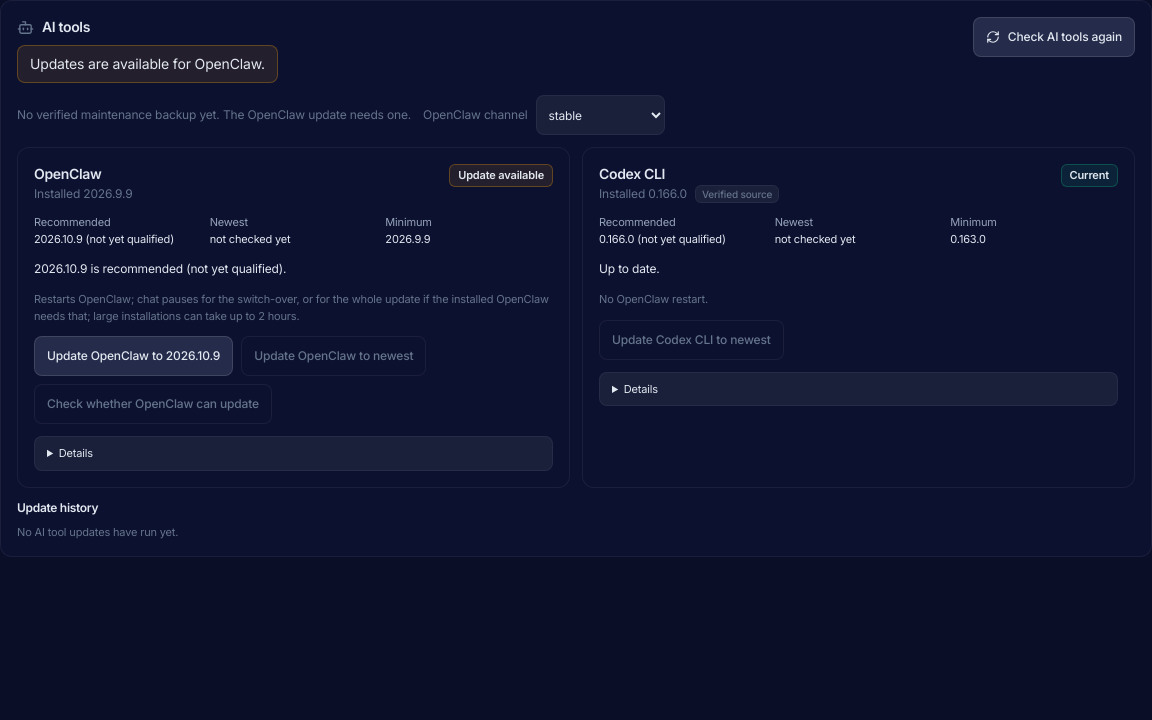
it: OpenClaw update consent review › without a verified backup the review says to create one first
Click the button "Update OpenClaw to 2026.10.9" at (134, 356), box [34,336,233,376]
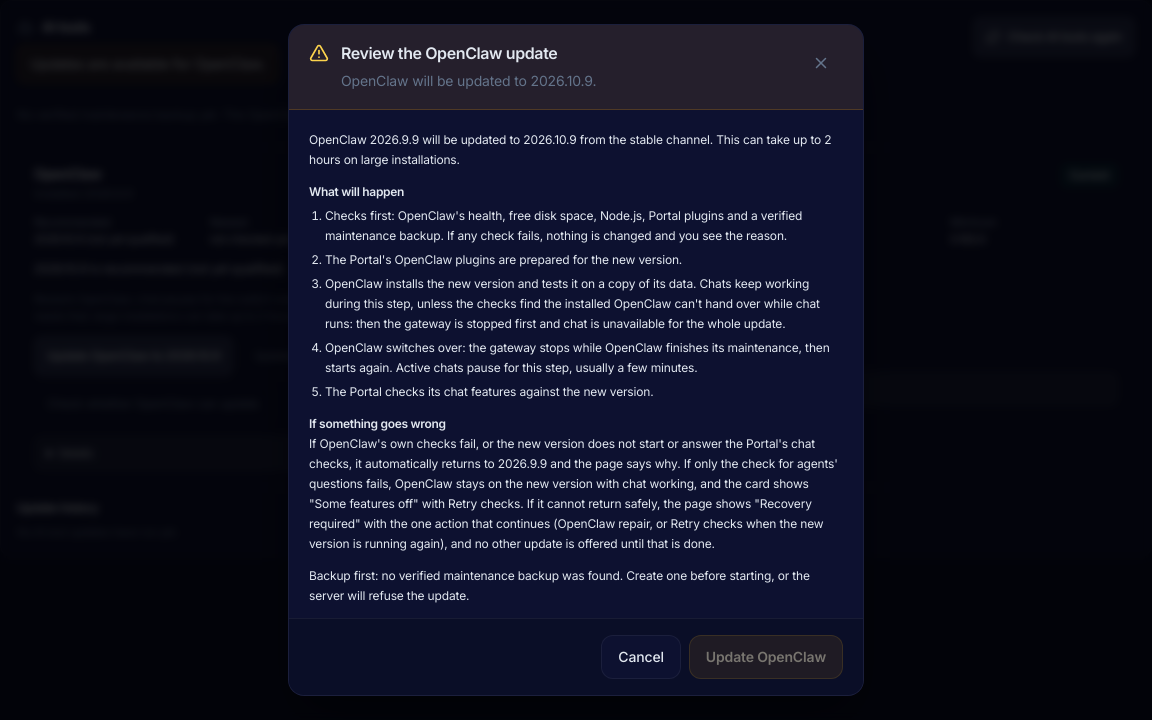
Expected: the text with test id "openclaw-consent-backup" shows "no verified maintenance backup was found. Create one before starting", [309,568,810,603]
